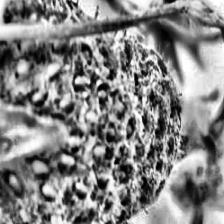Powdery Mildew Fruit: (0, 0, 184, 224)
